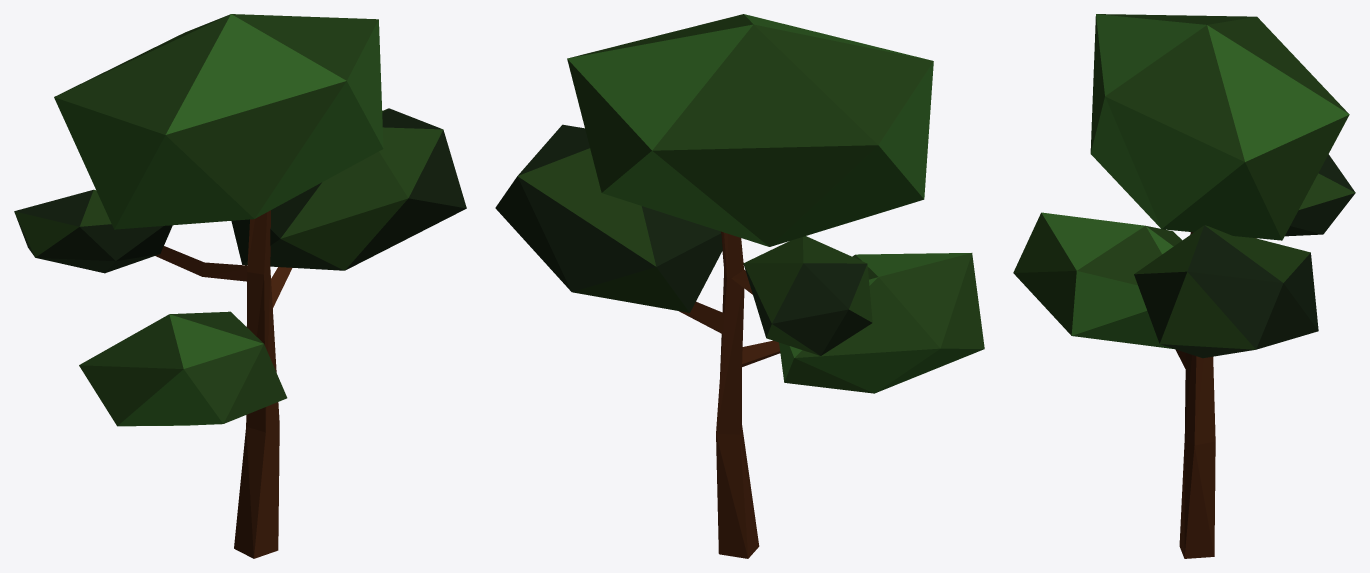
The model's file is Tree3_M1_7_big.fbx.
The picture shows the model from 3 angles, left to right: view 1: azimuth 30°, elevation 25°; view 2: azimuth 150°, elevation 25°; view 3: azimuth 270°, elevation 25°; orthographic projection. The views are drawn at different scales.
Parts seen in each view (by area): view 1: Tree3_M1_7_big; view 2: Tree3_M1_7_big; view 3: Tree3_M1_7_big.
Part boxes in pixels (x1,y1,x2,y2): Tree3_M1_7_big: [14, 14, 466, 558]; Tree3_M1_7_big: [495, 14, 984, 558]; Tree3_M1_7_big: [1013, 14, 1355, 558].
Size of the model in its own units: 639 by 805 by 483.
